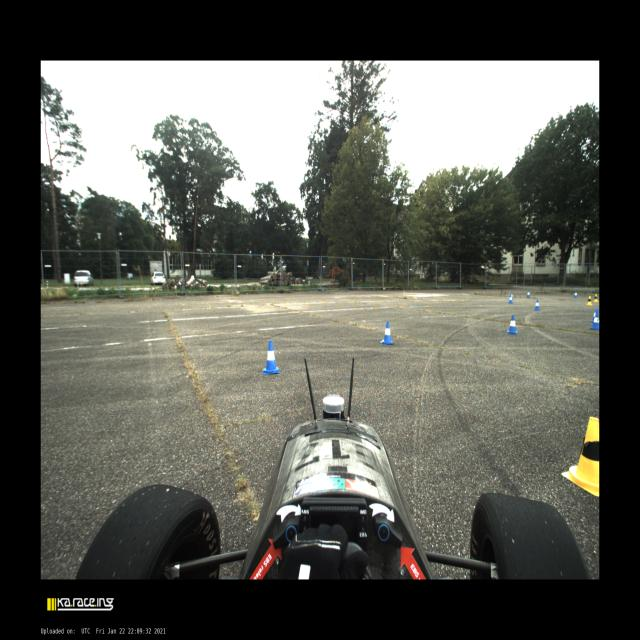blue_cone: (262, 341, 280, 374), (380, 321, 394, 345), (506, 314, 518, 336), (589, 312, 599, 330), (589, 307, 598, 323), (534, 299, 540, 311), (508, 292, 514, 300), (508, 295, 513, 303), (526, 290, 530, 298), (574, 291, 578, 298)
yellow_cone: (562, 416, 599, 497), (586, 295, 592, 306), (593, 293, 599, 303)
